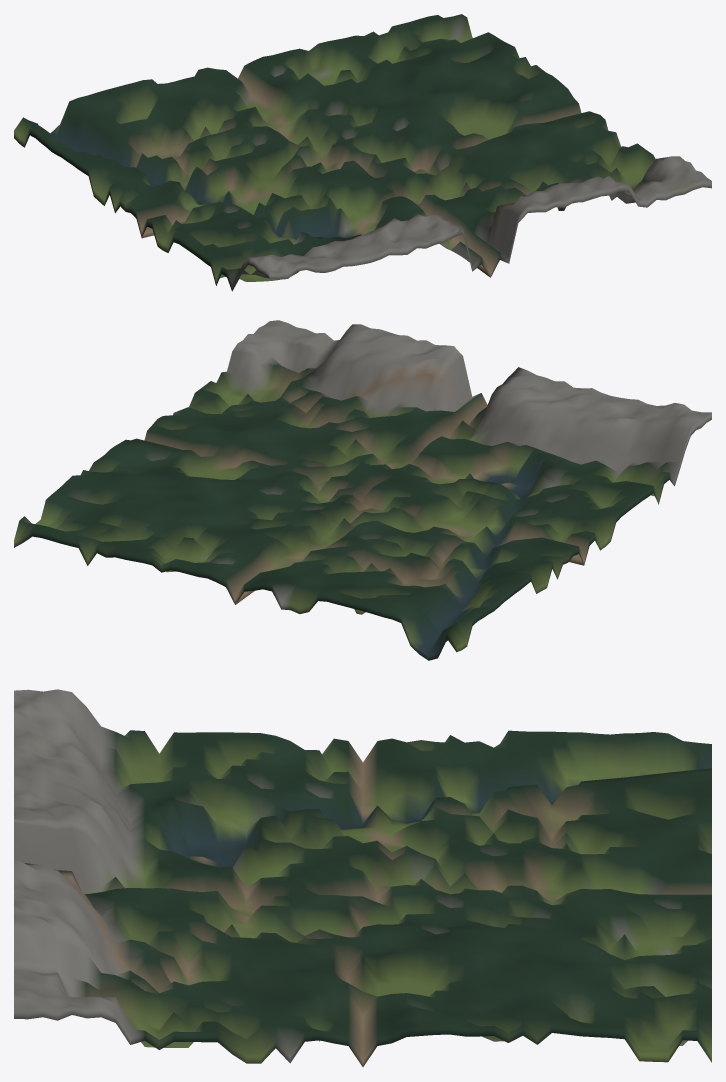
Rendered from far.glb.
The picture shows the model from 3 angles, top to bottom: view 1: azimuth 30°, elevation 25°; view 2: azimuth 150°, elevation 25°; view 3: azimuth 270°, elevation 25°; orthographic projection. The views are drawn at different scales.
Parts seen in each view (by area): view 1: far-proxy; view 2: far-proxy; view 3: far-proxy.
Boxes of the visible parts, <box> form: far-proxy: <box>14,14,711,291</box>; far-proxy: <box>14,320,711,660</box>; far-proxy: <box>14,689,711,1066</box>.
Size of the model in its own units: 500 by 77.96 by 500.
